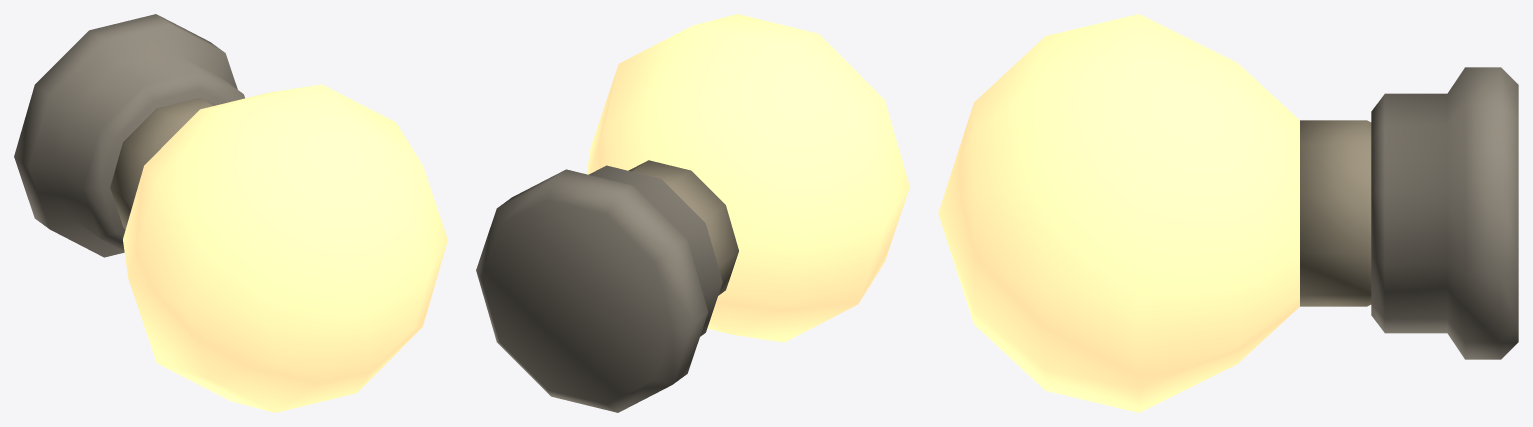
The model's file is marquee-bulb.glb.
The picture shows the model from 3 angles, left to right: view 1: azimuth 30°, elevation 25°; view 2: azimuth 150°, elevation 25°; view 3: azimuth 270°, elevation 25°; orthographic projection. The views are drawn at different scales.
Visible parts, largest first — view 1: GlassEnvelope, Socket, LampNeck; view 2: GlassEnvelope, Socket, LampNeck; view 3: GlassEnvelope, Socket, LampNeck.
Part boxes in pixels (x1,y1,x2,y2): GlassEnvelope: (123, 84, 447, 412); Socket: (14, 14, 244, 257); LampNeck: (110, 98, 214, 229); GlassEnvelope: (586, 14, 909, 342); Socket: (476, 165, 722, 412); LampNeck: (628, 160, 738, 295); GlassEnvelope: (938, 14, 1299, 412); Socket: (1371, 67, 1518, 359); LampNeck: (1300, 120, 1371, 306).
Bounding box in the file's own units: 0.09 × 0.0856 × 0.13.
